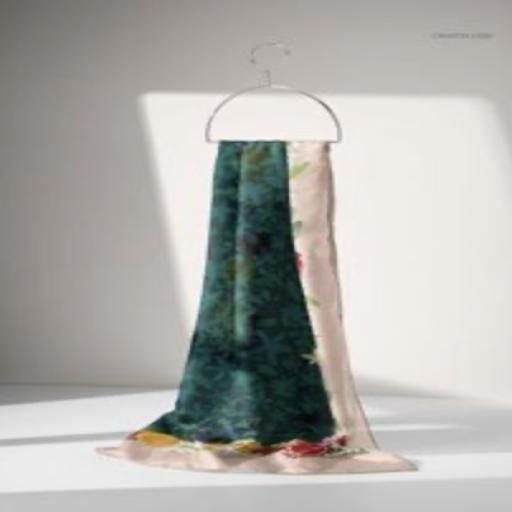Dupatta: (113, 135, 428, 478)
